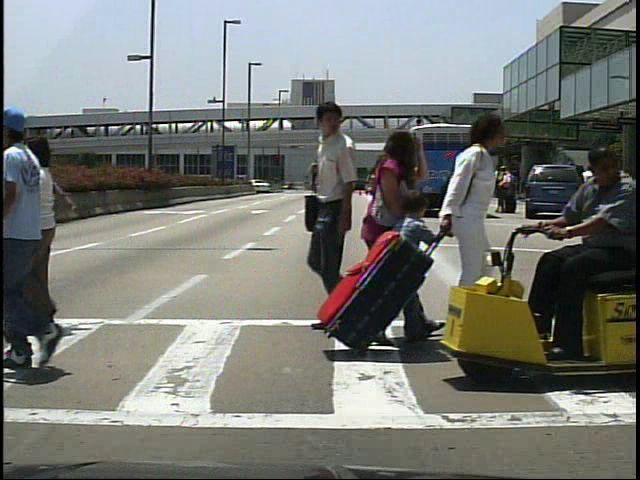person: (295, 101, 400, 349), (536, 146, 639, 363), (430, 108, 521, 327), (358, 123, 426, 354), (11, 132, 75, 332), (393, 185, 438, 318), (582, 162, 602, 218), (498, 166, 516, 219), (497, 164, 516, 214)
